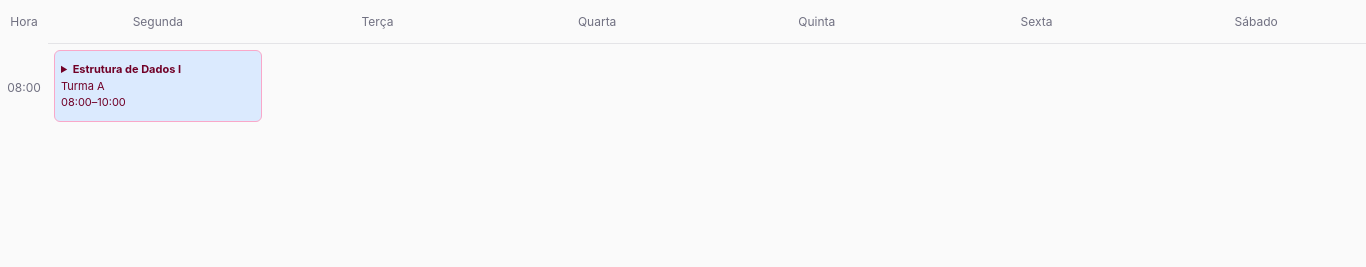
abre e fecha os detalhes da aula e indica os campos ausentes no catálogo
The width and height of the screenshot is (1366, 267).
Check: the text "BCC202-A" is not shown
Step 1. Click the heading "Estrutura de Dados I Turma A 08:00–10:00" → (127, 69), box [61,62,181,109]
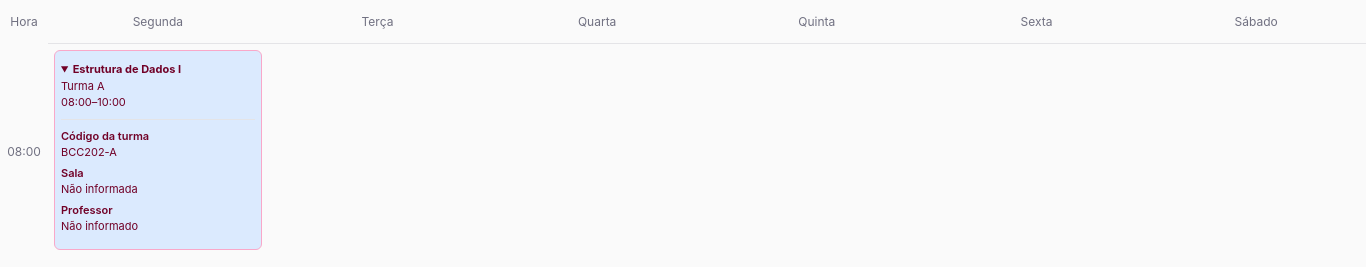
Check: the text "BCC202-A" is shown, box [61,145,117,159]
Check: the text "Não informada" is shown, box [61,182,138,196]
Check: the text "Não informado" is shown, box [61,219,138,233]
Step 2. Click the heading "Estrutura de Dados I Turma A 08:00–10:00" → (127, 69), box [61,62,181,109]
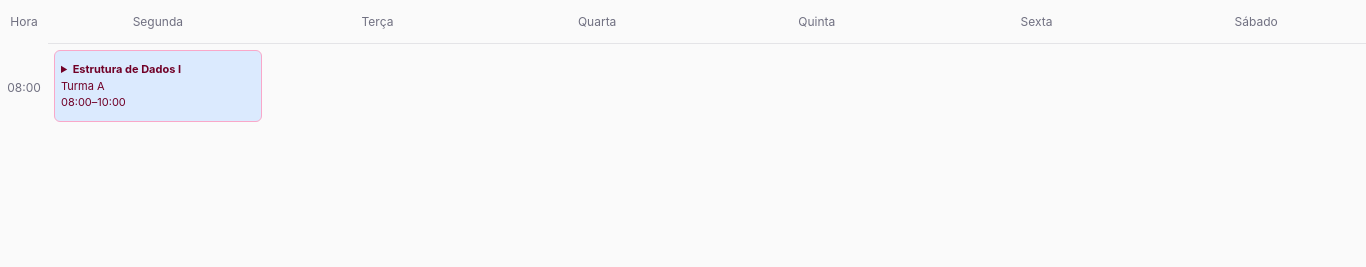
Check: the text "BCC202-A" is gone
